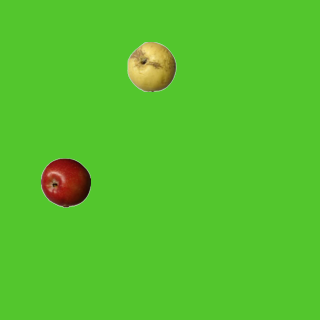Apple Braeburn: (40, 157, 90, 207)
Apple Golden 1: (126, 41, 176, 91)
